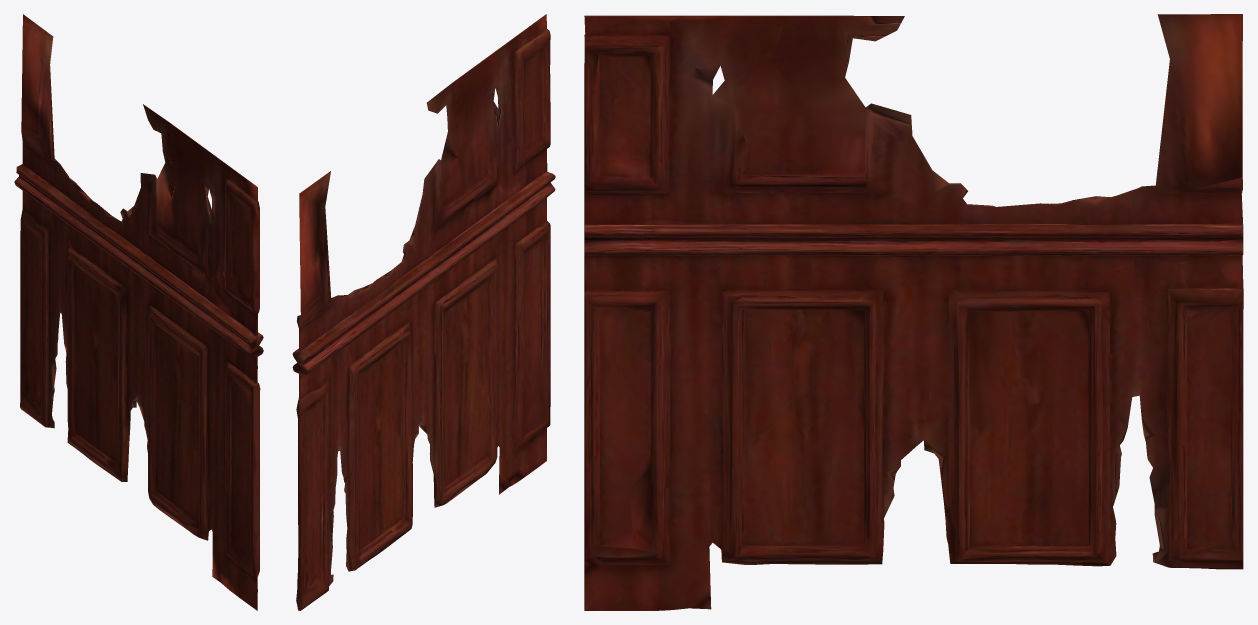
The model's file is 木质护墙板第二版.glb.
The picture shows the model from 3 angles, left to right: view 1: azimuth 30°, elevation 25°; view 2: azimuth 150°, elevation 25°; view 3: azimuth 270°, elevation 25°; orthographic projection. The views are drawn at different scales.
Parts seen in each view (by area): view 1: tripo_node_03dc6717-0438-4bb5-ae7f-5a9dfdc4be03; view 2: tripo_node_03dc6717-0438-4bb5-ae7f-5a9dfdc4be03; view 3: tripo_node_03dc6717-0438-4bb5-ae7f-5a9dfdc4be03.
Part boxes in pixels (<box>): tripo_node_03dc6717-0438-4bb5-ae7f-5a9dfdc4be03: <box>14,14,263,610</box>; tripo_node_03dc6717-0438-4bb5-ae7f-5a9dfdc4be03: <box>292,14,555,610</box>; tripo_node_03dc6717-0438-4bb5-ae7f-5a9dfdc4be03: <box>584,14,1243,610</box>.
Bounding box in the file's own units: 0.0377 × 0.9986 × 0.9997.
Materials: 1 (1 with a texture image).
